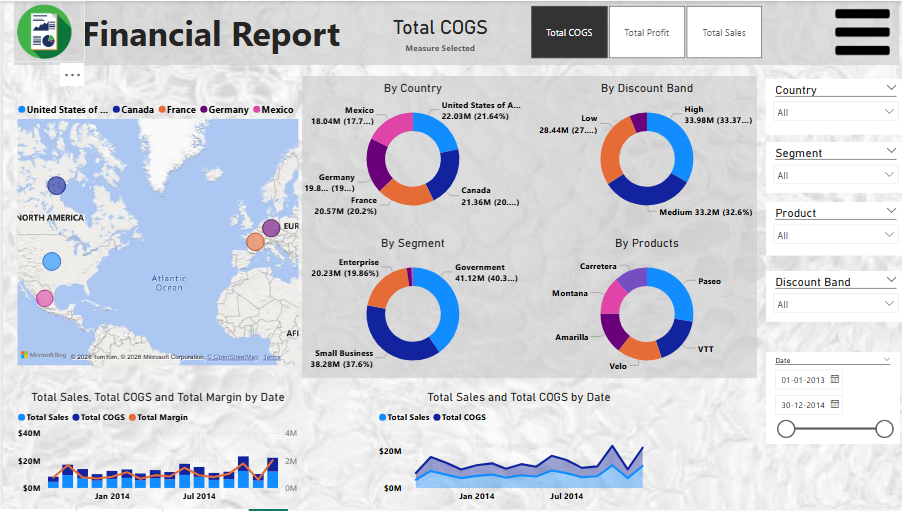

The dashboard page shown, as its layout file describes it:
{"tool":"powerbi","page":{"name":"Fin report 2","canvas":[1280,720],"ordinal":0},"visuals":[{"type":"shape","box":[424.2,106.8,644.9,428.5],"z":0},{"type":"shape","box":[15.9,0,1255.2,90.9],"z":1000},{"type":"textbox","box":[106.8,7.2,393.9,89.5],"z":2000},{"type":"image","box":[0,0,116.6,86.8],"z":3000},{"type":"slicer","fields":{"Values":["financials.Country"]},"box":[1082.1,111.1,197.7,79.4],"z":4000},{"type":"slicer","fields":{"Values":["financials.Segment"]},"box":[1082.1,200.5,197.7,72.1],"z":5000},{"type":"slicer","fields":{"Values":["financials.Product"]},"box":[1082.1,284.2,197.7,76.5],"z":6000},{"type":"slicer","fields":{"Values":["financials.Discount Band"]},"box":[1082.1,382.3,197.7,72.1],"z":7000},{"type":"slicer","fields":{"Values":["Date.Date"]},"box":[1082.1,497.8,189,129.8],"z":8000},{"type":"card","fields":{"Values":["All Measure.Measure Selected"]},"box":[526,0,187.5,87.7],"z":9000},{"type":"slicer","fields":{"Values":["Metrics.Measures"]},"box":[723.3,0,377.5,87.7],"z":10000},{"type":"map","fields":{"Category":["financials.Country"],"Size":["All Measure.Total Sales"],"Series":["financials.Country"]},"box":[15.9,132.7,408.3,388.1],"z":11000},{"type":"donutChart","title":"By Discount Band","fields":{"Category":["financials.Discount Band"],"Y":["All Measure.Measure Logic"]},"box":[754.9,113.4,314.5,202],"z":12000},{"type":"donutChart","title":"By Country","fields":{"Category":["financials.Country"],"Y":["All Measure.Measure Logic"]},"box":[424.5,113.4,314.5,202],"z":13000},{"type":"donutChart","title":"By Products","fields":{"Category":["financials.Product"],"Y":["All Measure.Measure Logic"]},"box":[754.9,332.7,314.5,202],"z":14000},{"type":"donutChart","title":"By Segment","fields":{"Category":["financials.Segment"],"Y":["All Measure.Measure Logic"]},"box":[424.5,332.7,314.5,202],"z":15000},{"type":"lineStackedColumnComboChart","fields":{"Y":["All Measure.Total Sales","All Measure.Total COGS"],"Y2":["All Measure.Total Margin"],"Category":["financials.Date"]},"box":[15.9,551.1,408.3,168.8],"z":16000},{"type":"stackedAreaChart","fields":{"Category":["financials.Date"],"Y":["All Measure.Total Sales","All Measure.Total COGS"]},"box":[526.6,551.1,408.3,168.8],"z":17000},{"type":"image","box":[1171.4,0,95,87.7],"z":24000}]}

Visuals, with their boxes in screenshot pixels (x1, y1, x2, y2), scaled from the page's 1280x720 canvas onto the 902x511 screenshot:
shape: BBox(299, 76, 753, 380)
shape: BBox(11, 0, 896, 65)
textbox: BBox(75, 5, 353, 69)
image: BBox(0, 0, 82, 62)
slicer - financials.Country: BBox(763, 79, 901, 135)
slicer - financials.Segment: BBox(763, 142, 901, 193)
slicer - financials.Product: BBox(763, 202, 901, 256)
slicer - financials.Discount Band: BBox(763, 271, 901, 322)
slicer - Date.Date: BBox(763, 353, 896, 445)
card - All Measure.Measure Selected: BBox(371, 0, 503, 62)
slicer - Metrics.Measures: BBox(510, 0, 776, 62)
map - financials.Country x All Measure.Total Sales: BBox(11, 94, 299, 370)
"By Discount Band" donutChart: BBox(532, 80, 754, 224)
"By Country" donutChart: BBox(299, 80, 521, 224)
"By Products" donutChart: BBox(532, 236, 754, 379)
"By Segment" donutChart: BBox(299, 236, 521, 379)
lineStackedColumnComboChart - All Measure.Total Sales x All Measure.Total COGS: BBox(11, 391, 299, 510)
stackedAreaChart - financials.Date x All Measure.Total Sales: BBox(371, 391, 659, 510)
image: BBox(825, 0, 892, 62)
